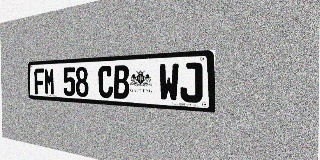5: (63, 67, 75, 96)
8: (75, 67, 89, 97)
B: (113, 65, 129, 99)
C: (98, 66, 113, 98)
F: (34, 68, 44, 95)
J: (180, 62, 203, 103)
M: (44, 68, 55, 95)
W: (159, 63, 179, 102)
